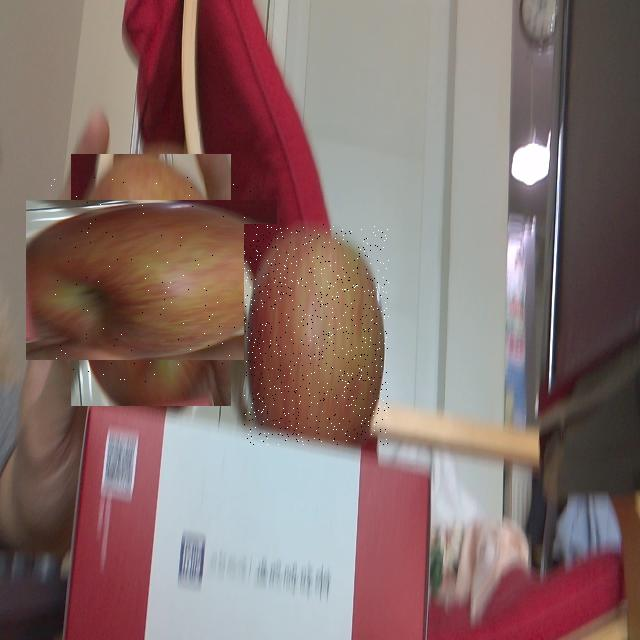apple: (48, 177, 254, 383), (244, 224, 389, 445)
